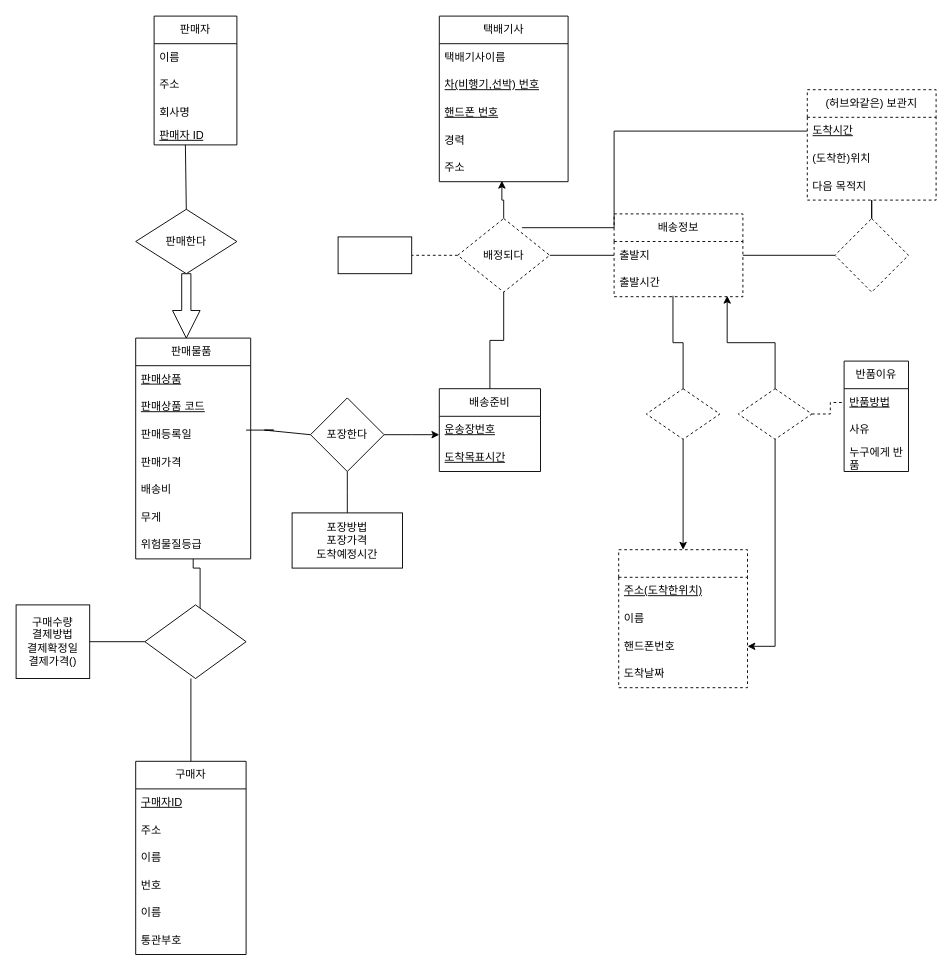
This 952x971 diagram has some shape labels left out. Each missing label, with the box of its shape:
구매한다: (144, 604, 246, 678)
도착하다: (645, 388, 720, 439)
목적지: (337, 236, 412, 274)
반품한다: (737, 388, 812, 439)
분류하다: (834, 218, 908, 292)
수신자: (618, 549, 748, 688)
